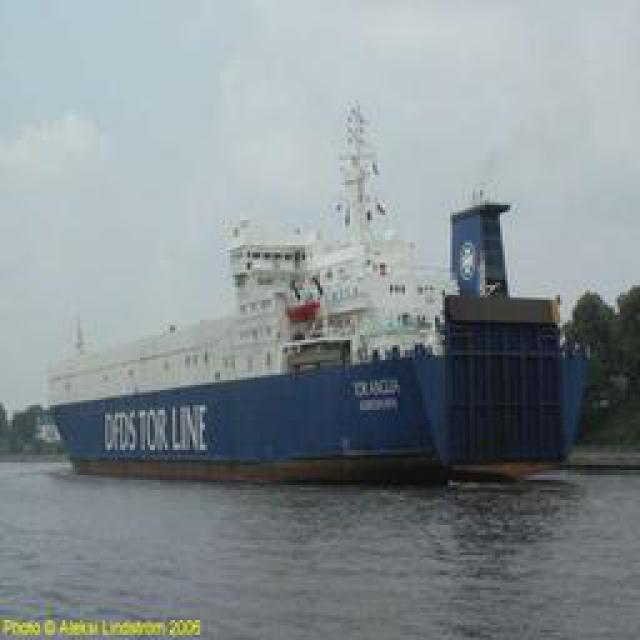Ship: (42, 103, 608, 490)
